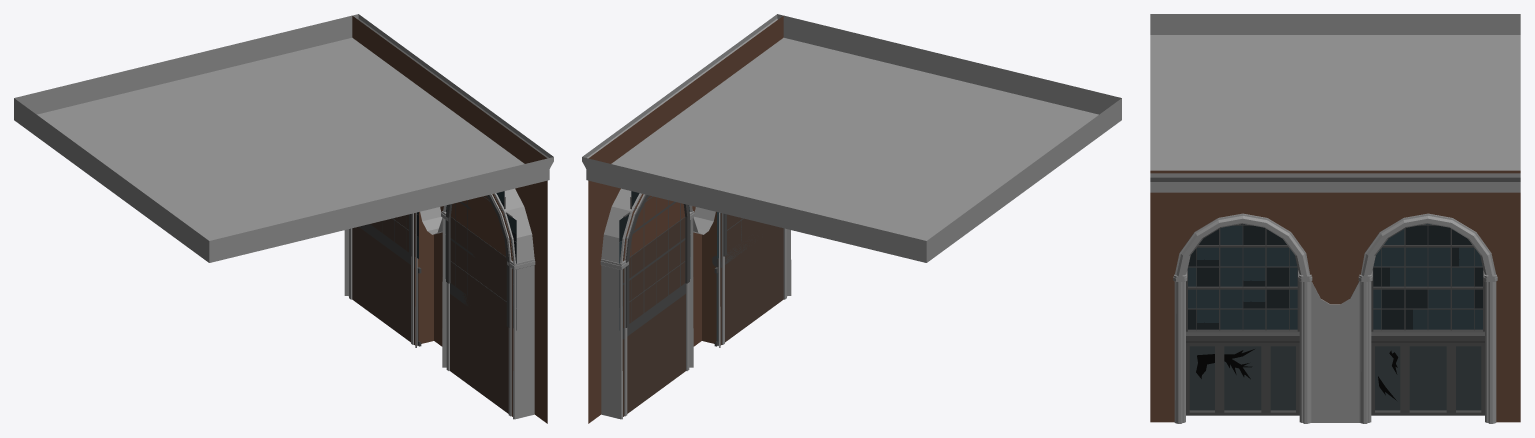
The model's file is Building4_Bottom_Side2.fbx.
3 renders of one model, left to right at view 1: azimuth 30°, elevation 25°; view 2: azimuth 150°, elevation 25°; view 3: azimuth 270°, elevation 25°, orthographic. The views are drawn at different scales.
Visible parts, largest first — view 1: Cube.015; view 2: Cube.015; view 3: Cube.015.
Boxes of the visible parts, x1=… form: Cube.015: x1=14, y1=14, x2=553, y2=423; Cube.015: x1=582, y1=14, x2=1121, y2=423; Cube.015: x1=1150, y1=14, x2=1520, y2=423.
Size of the model in its own units: 1630 by 1200 by 1600.
